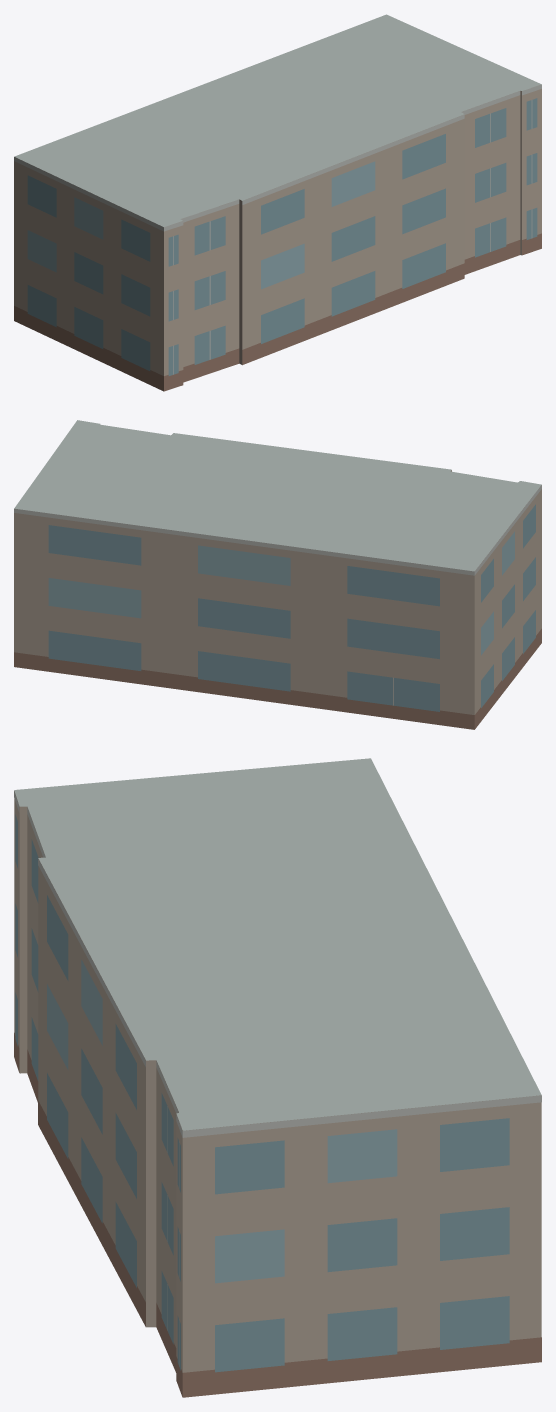
File: survey-upis-32521151.glb
3 renders of one model, top to bottom at view 1: azimuth 30°, elevation 25°; view 2: azimuth 150°, elevation 25°; view 3: azimuth 270°, elevation 25°, orthographic. The views are drawn at different scales.
Parts seen in each view (by area): view 1: survey-upis-32521151.tmp; view 2: survey-upis-32521151.tmp; view 3: survey-upis-32521151.tmp.
Boxes of the visible parts, x1,y1,x2,y2 form: survey-upis-32521151.tmp: (14, 14, 541, 391); survey-upis-32521151.tmp: (14, 420, 541, 729); survey-upis-32521151.tmp: (14, 758, 541, 1397).
Size of the model in its own units: 27.4 by 9.15 by 16.41.
